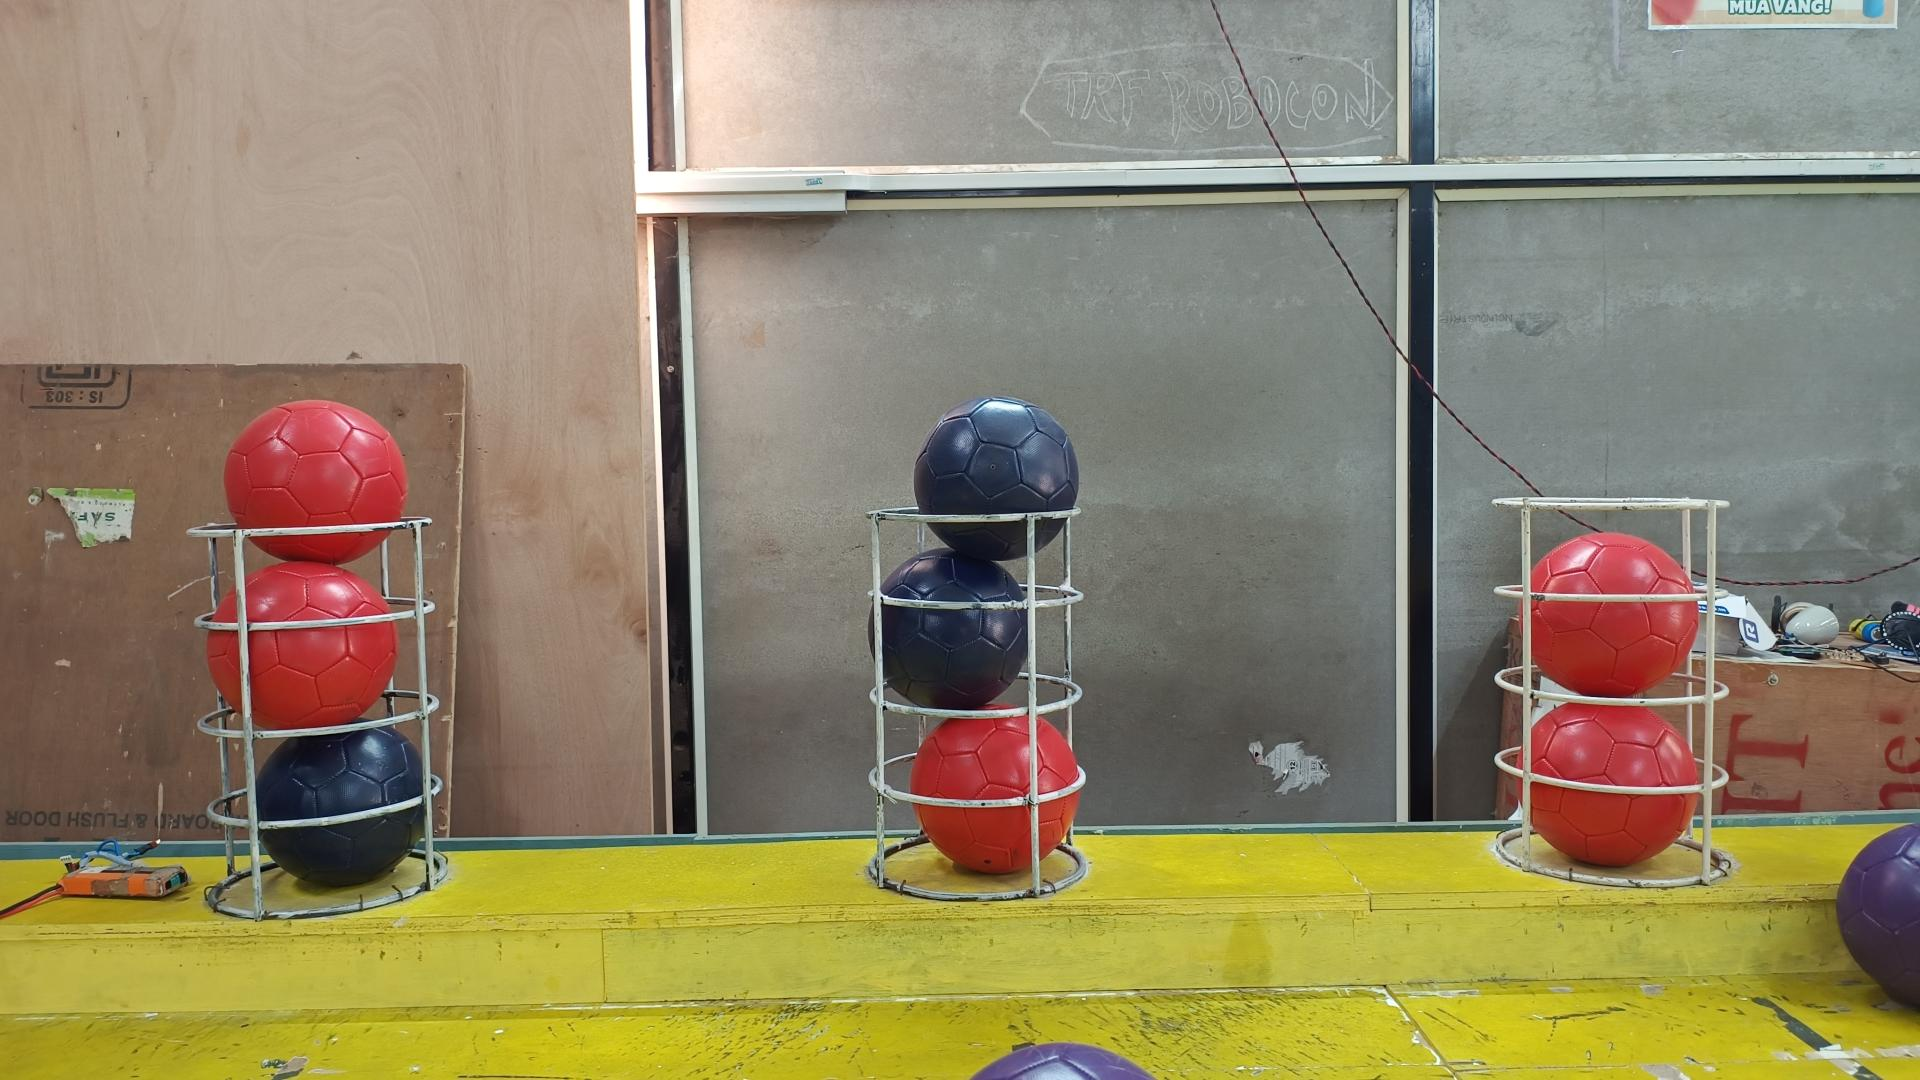dhoka: (911, 397, 1080, 563), (255, 728, 427, 889), (866, 547, 1027, 712)
laale: (206, 563, 397, 732), (1511, 702, 1698, 866), (222, 401, 409, 566), (1520, 533, 1698, 698), (907, 712, 1080, 874)
